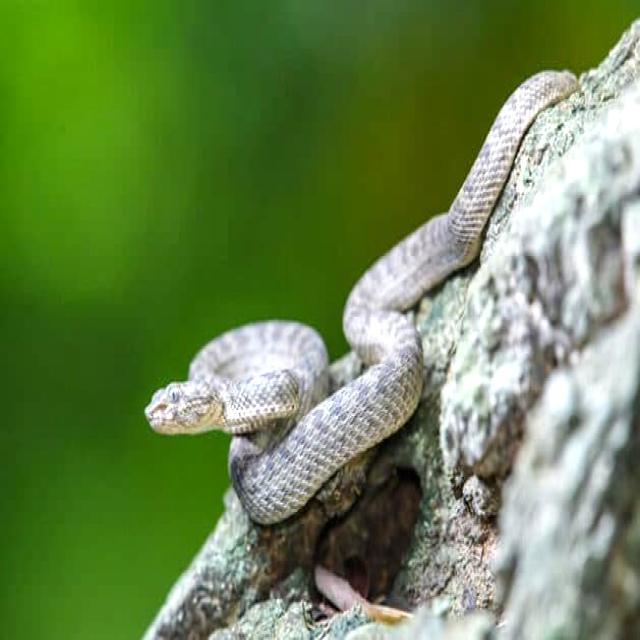Ovophis monticola: (146, 72, 577, 524)
